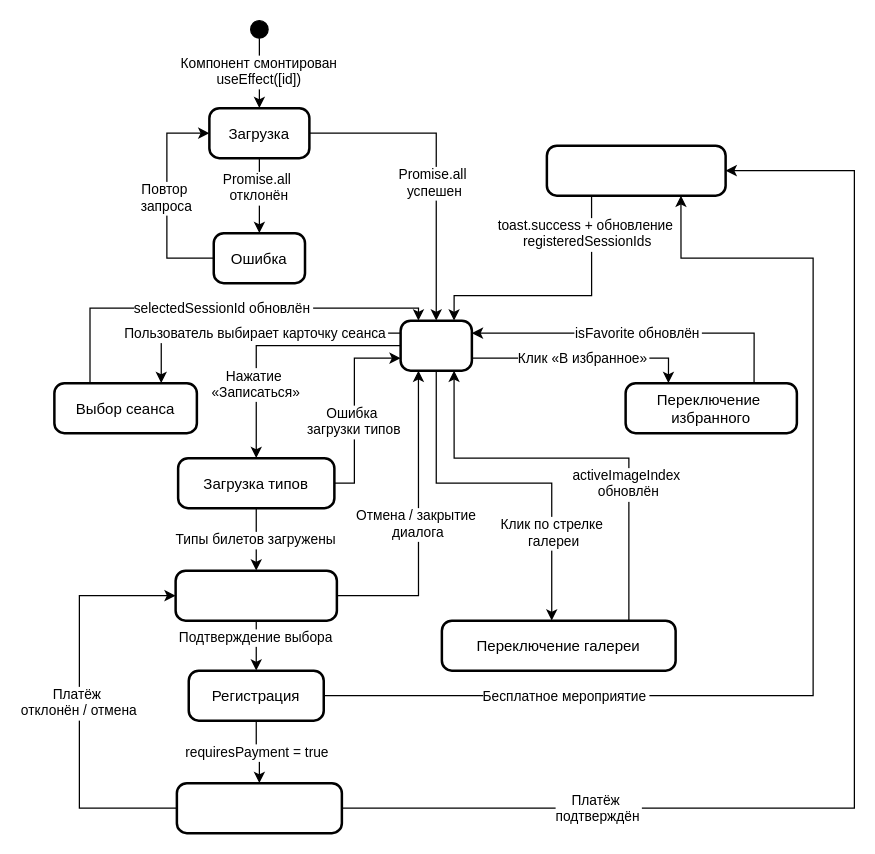
Some shapes in this 875 by 854 pixel diagram are drawn without their labels. Here are the shapes that lost their labels. From the top down, the box of each, then its label:
(545, 144, 726, 196): Зарегистрирован
(399, 319, 472, 371): Готов
(174, 569, 338, 621): Диалог билетов
(175, 781, 342, 834): Оплата YooKassa
